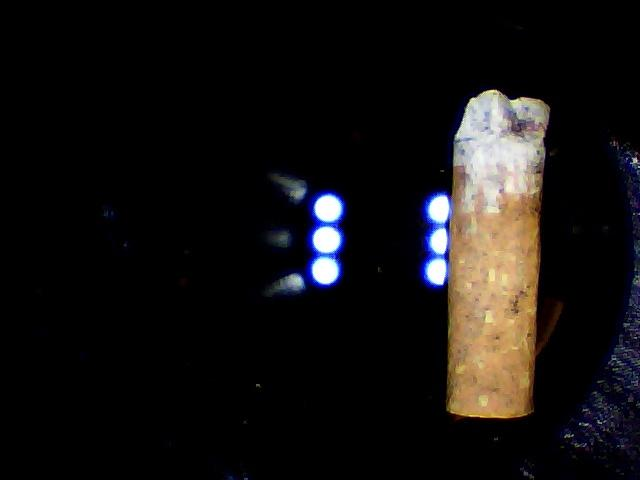megot: (431, 61, 562, 443)
